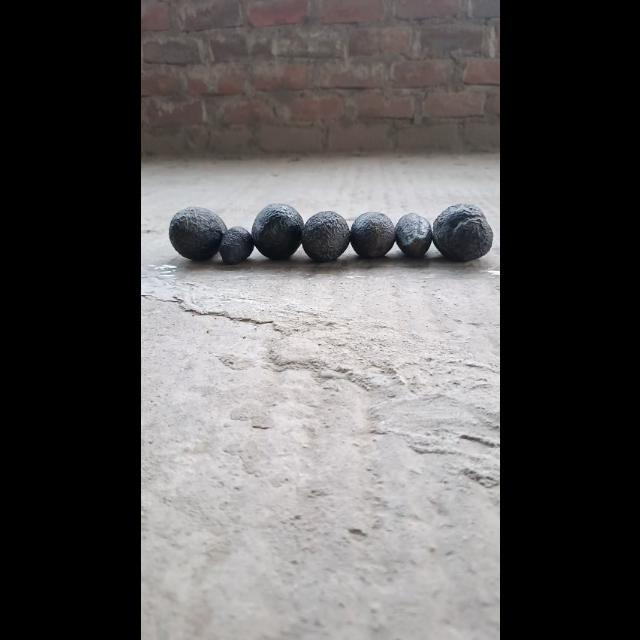Primera: (431, 202, 492, 262), (167, 205, 225, 261), (250, 203, 302, 259), (299, 210, 349, 260)
Segunda: (348, 210, 396, 258), (393, 212, 433, 258)
Tercera: (216, 226, 252, 264)
